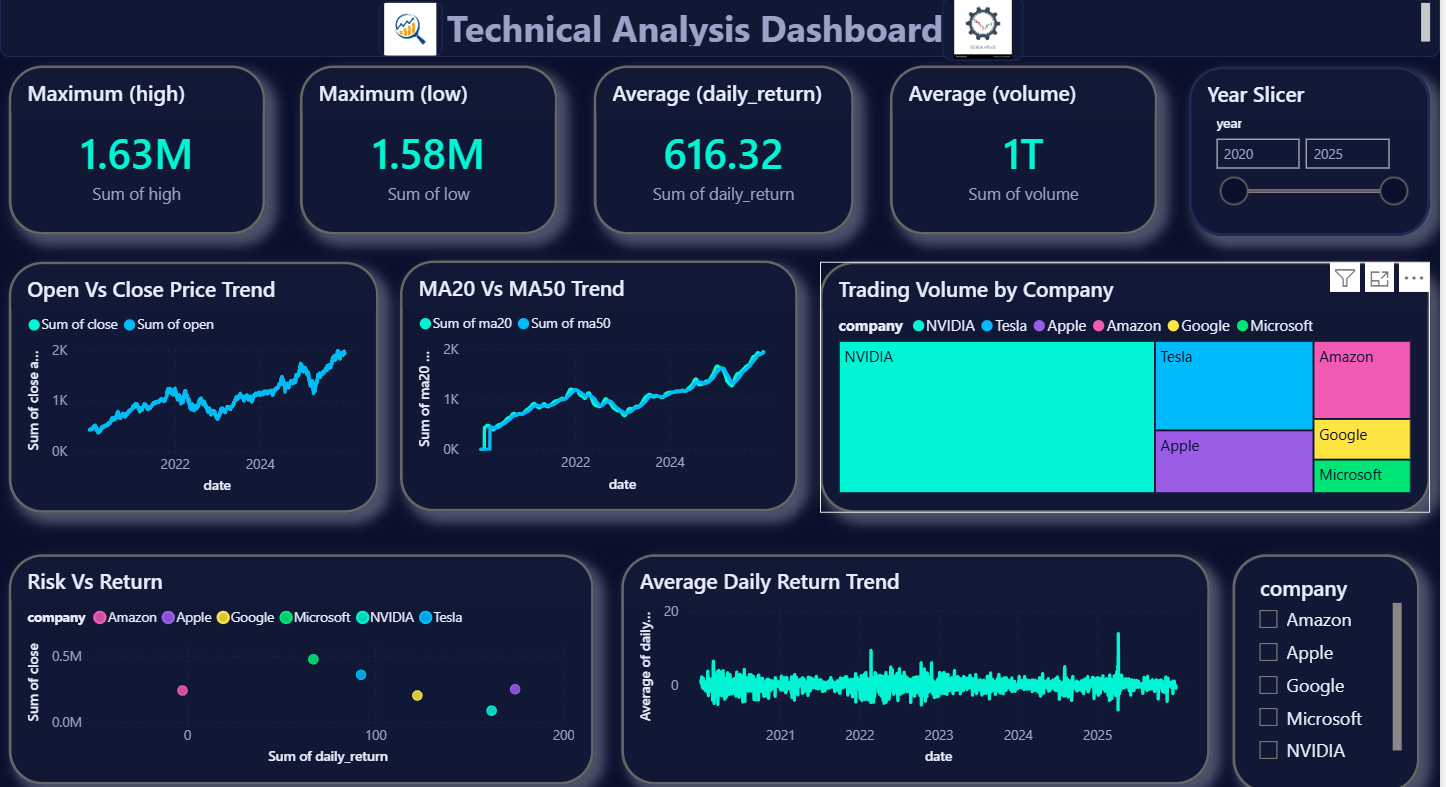

The dashboard page shown, as its layout file describes it:
{"tool":"powerbi","page":{"name":"Page 2","canvas":[1280,720],"ordinal":1},"visuals":[{"type":"textbox","box":[0,0,1280,56.7],"z":0},{"type":"card","title":"Maximum (high)","fields":{"Values":["Sum(public stock_data.high)"]},"box":[7.8,64.4,227.8,150],"z":1000},{"type":"card","title":"Maximum (low)","fields":{"Values":["Sum(public stock_data.low)"]},"box":[266.7,64.4,228.9,150],"z":2000},{"type":"card","title":"Average (daily_return)","fields":{"Values":["Sum(public stock_data.daily_return)"]},"box":[527.8,64.4,231.1,150],"z":3000},{"type":"card","title":"Average (volume)","fields":{"Values":["Sum(public stock_data.volume)"]},"box":[791.1,64.4,237.8,150],"z":4000},{"type":"lineChart","title":"Open Vs Close Price Trend","fields":{"Y":["Sum(public stock_data.close)","Sum(public stock_data.open)"],"Category":["public stock_data.date"]},"box":[7.8,238.9,328.9,223.3],"z":5000},{"type":"lineChart","title":"MA20 Vs MA50 Trend","fields":{"Y":["Sum(public stock_data.ma20)","Sum(public stock_data.ma50)"],"Category":["public stock_data.date"]},"box":[355.6,237.8,353.5,223.2],"z":6000},{"type":"scatterChart","title":"Risk Vs Return","fields":{"X":["Sum(public stock_data.daily_return)"],"Y":["Sum(public stock_data.close)"],"Series":["public stock_data.company"]},"box":[7.8,498.9,520,204.4],"z":7000},{"type":"treemap","title":"Trading Volume by Company","fields":{"Group":["public stock_data.company"],"Values":["Sum(public stock_data.volume)"]},"box":[728.9,238.9,542.2,223.3],"z":8000},{"type":"lineChart","title":"Average Daily Return Trend","fields":{"Category":["public stock_data.date"],"Y":["Avg(public stock_data.daily_return)"]},"box":[552.2,498.9,523.3,204.4],"z":9000},{"type":"slicer","fields":{"Values":["public stock_data.company"]},"box":[1095.6,498.9,166.7,212.2],"z":10000},{"type":"slicer","title":"Year Slicer","fields":{"Values":["public stock_data.year"]},"box":[1056.7,65.6,214.4,150],"z":11000},{"type":"image","box":[837.8,3.3,72.2,56.7],"z":12000},{"type":"image","box":[336.7,7.8,56.7,48.9],"z":13000}]}

Visuals, with their boxes on the page's 1280x720 design canvas (x1, y1, x2, y2). These are canvas units, not pixel positions in the 1446x787 screenshot, which may show the page scaled, cropped or inside an application window:
textbox: x1=0, y1=0, x2=1280, y2=57
"Maximum (high)" card: x1=8, y1=64, x2=236, y2=214
"Maximum (low)" card: x1=267, y1=64, x2=496, y2=214
"Average (daily_return)" card: x1=528, y1=64, x2=759, y2=214
"Average (volume)" card: x1=791, y1=64, x2=1029, y2=214
"Open Vs Close Price Trend" lineChart: x1=8, y1=239, x2=337, y2=462
"MA20 Vs MA50 Trend" lineChart: x1=356, y1=238, x2=709, y2=461
"Risk Vs Return" scatterChart: x1=8, y1=499, x2=528, y2=703
"Trading Volume by Company" treemap: x1=729, y1=239, x2=1271, y2=462
"Average Daily Return Trend" lineChart: x1=552, y1=499, x2=1076, y2=703
slicer - public stock_data.company: x1=1096, y1=499, x2=1262, y2=711
"Year Slicer" slicer: x1=1057, y1=66, x2=1271, y2=216
image: x1=838, y1=3, x2=910, y2=60
image: x1=337, y1=8, x2=393, y2=57
